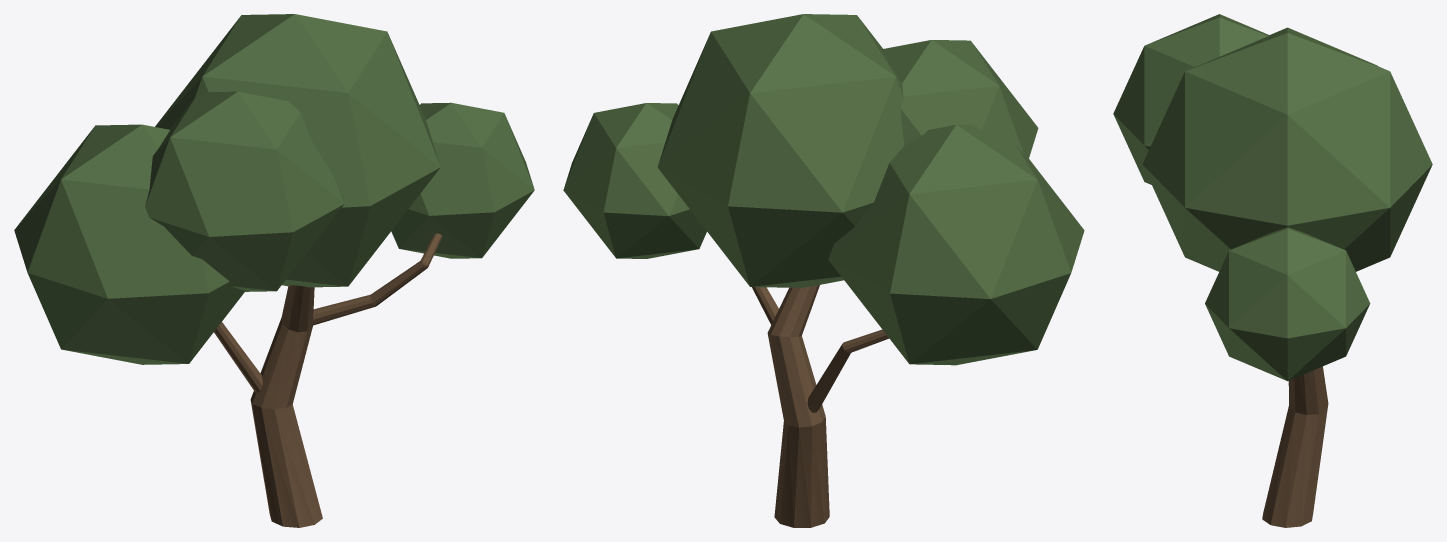
The model's file is tree_green_1.glb.
3 renders of one model, left to right at view 1: azimuth 30°, elevation 25°; view 2: azimuth 150°, elevation 25°; view 3: azimuth 270°, elevation 25°, orthographic. The views are drawn at different scales.
Parts seen in each view (by area): view 1: Tree Green 1; view 2: Tree Green 1; view 3: Tree Green 1.
Boxes of the visible parts, left/top/right/bottom form: Tree Green 1: left=14, top=14, right=534, bottom=527; Tree Green 1: left=563, top=14, right=1084, bottom=527; Tree Green 1: left=1113, top=14, right=1432, bottom=527.
Size of the model in its own units: 0.2866 by 0.2761 by 0.1654.
